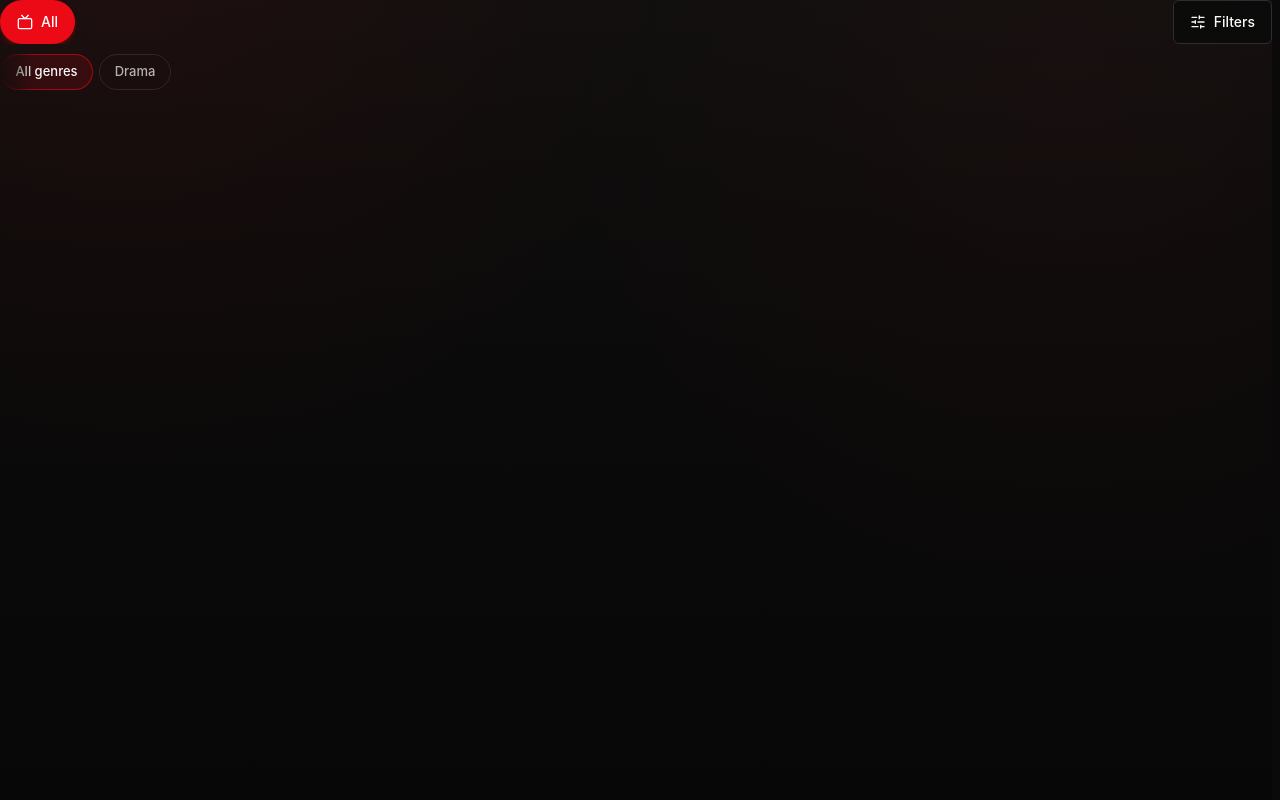
it: BrowseFilters › opens the filter panel from the Filters button on desktop
Step 1. Click the button with aria-label "Open filters" → (1222, 22), box x1=1173 y1=0 x2=1272 y2=44
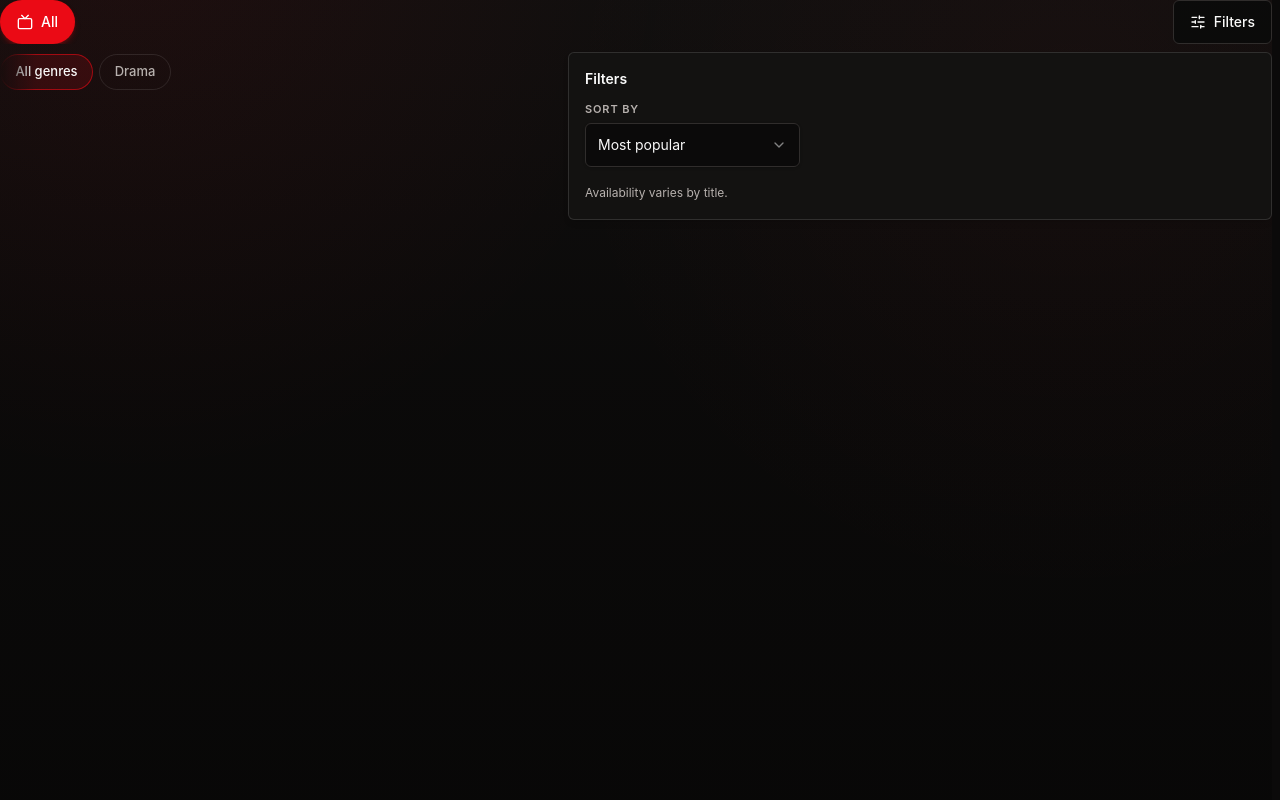
Expected: the text "Availability varies by title." is shown, x1=585 y1=185 x2=728 y2=200
Expected: the dropdown named "Sort by" is shown, x1=585 y1=123 x2=800 y2=167
